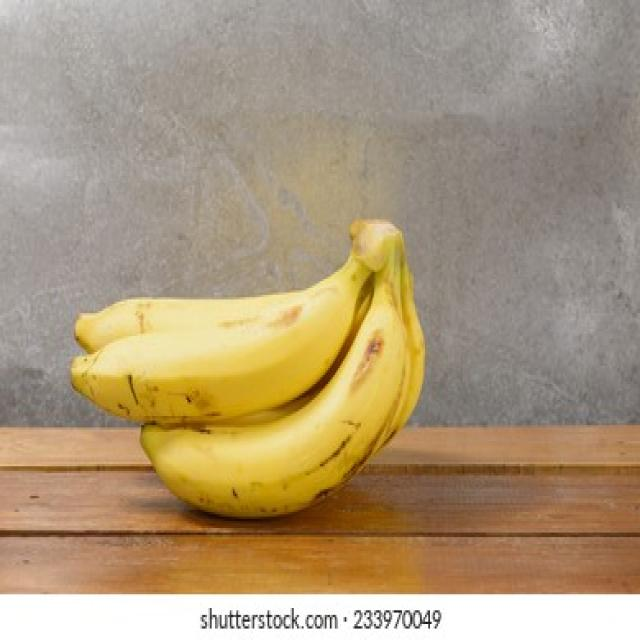banana: (67, 211, 428, 527)
